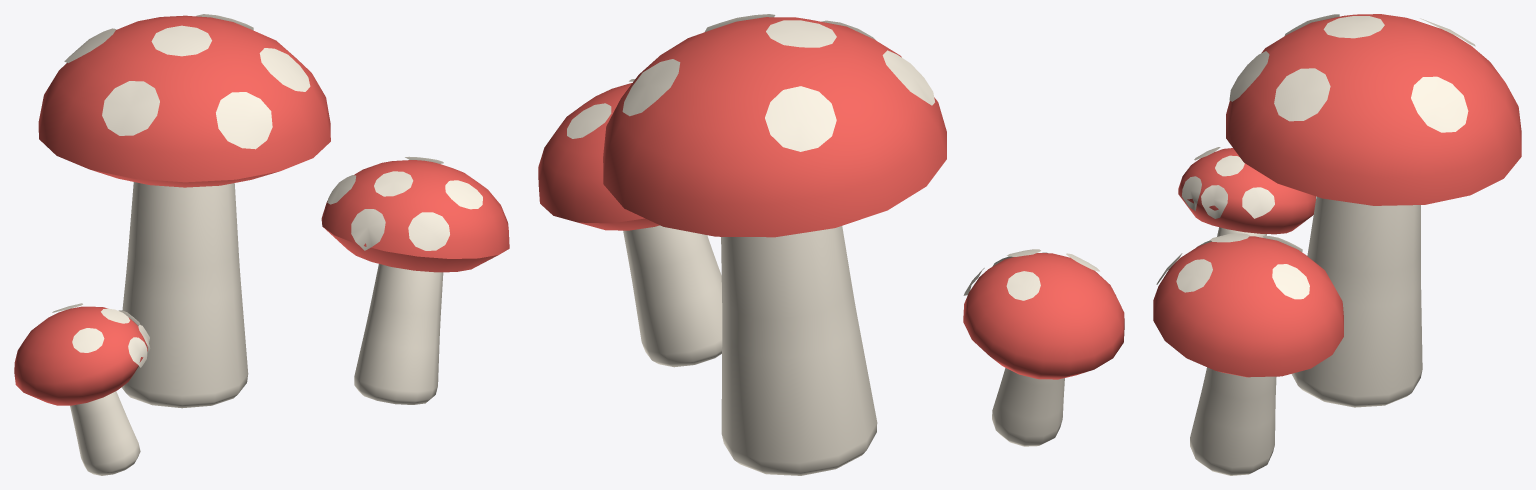
Rendered from prop_mushroom.glb.
The picture shows the model from 3 angles, left to right: view 1: azimuth 30°, elevation 25°; view 2: azimuth 150°, elevation 25°; view 3: azimuth 270°, elevation 25°; orthographic projection. The views are drawn at different scales.
Parts seen in each view (by area): view 1: prop_mushroom; view 2: prop_mushroom; view 3: prop_mushroom.
Part boxes in pixels (box(x1,y1,x2,y2)): prop_mushroom: box(14, 14, 509, 475); prop_mushroom: box(538, 14, 1124, 475); prop_mushroom: box(1153, 14, 1521, 475).
Bounding box in the file's own units: 0.8186 × 0.5875 × 0.5412.
